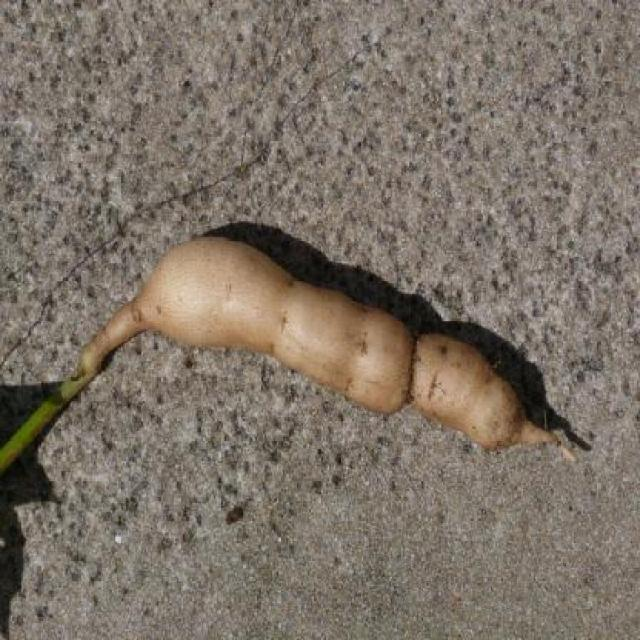Potato: (82, 234, 575, 462)
